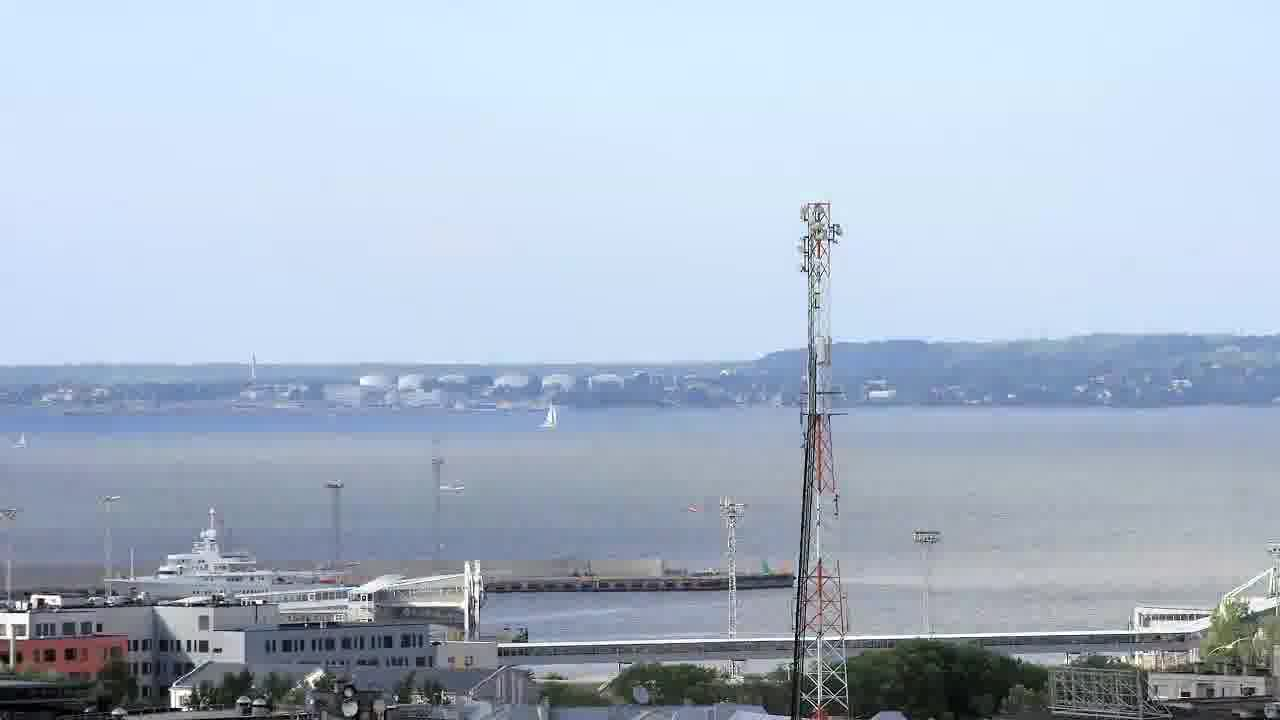type-2: (529, 379, 578, 444)
type-3: (88, 507, 346, 605)
